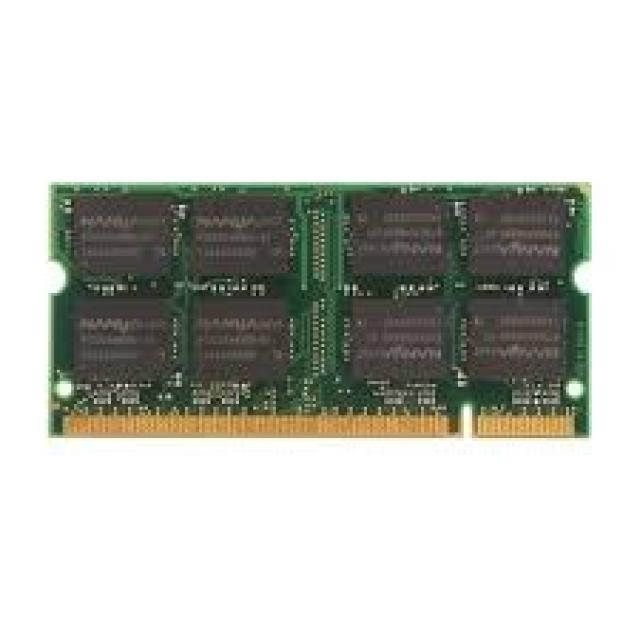Ram: (54, 128, 594, 473)
